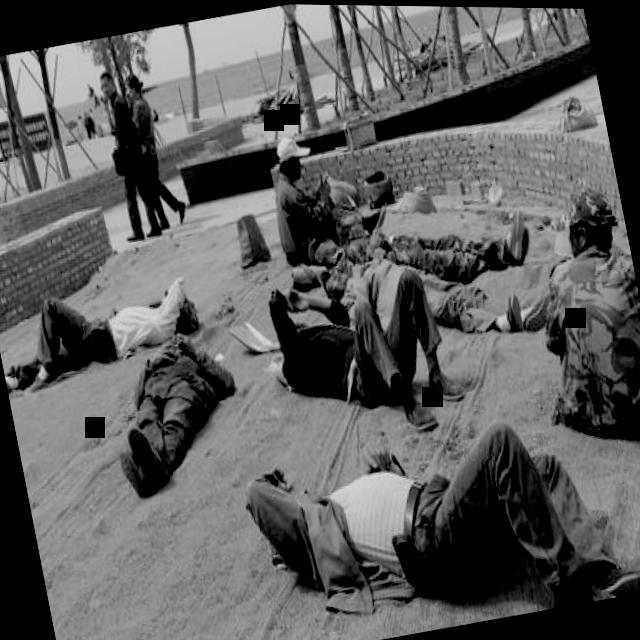Fall-Detected: (331, 202, 567, 380)
